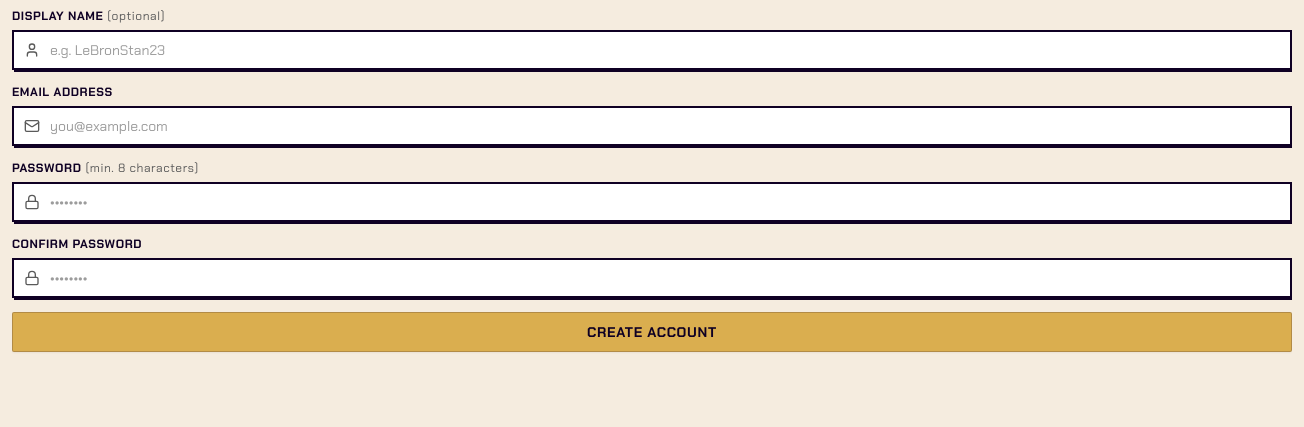
Test: Auth Components › RegisterForm › validates password minimum length (8 chars)
The image size is (1304, 427).
In the field with placeholder "you@example.com": (652, 126) [12,106,1292,146], type "user@example.com"
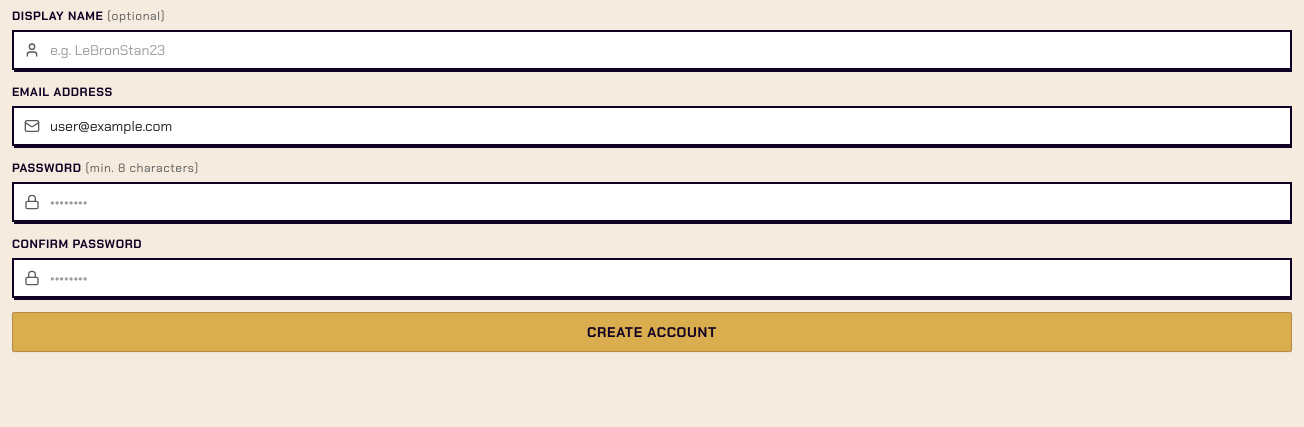
In the password field with placeholder "••••••••" below "(min. 8 characters)": (652, 202) [12,182,1292,222], type "short"
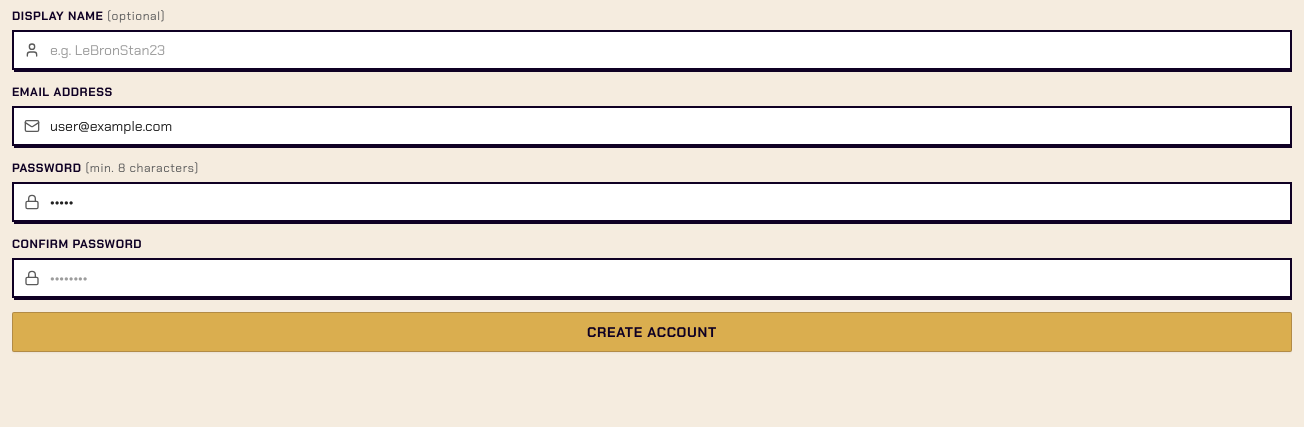
In the password field with placeholder "••••••••": (652, 278) [12,258,1292,298], type "short"
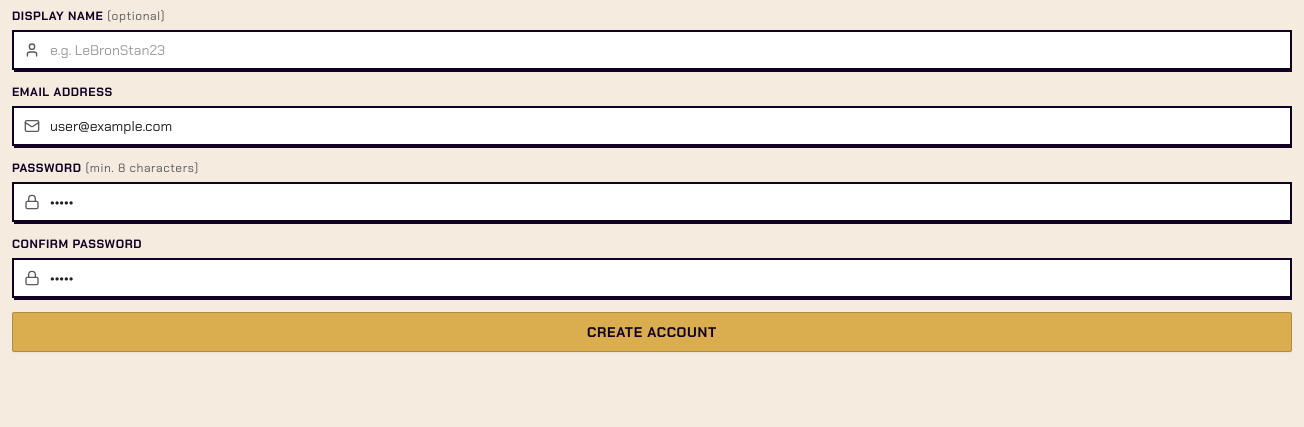
Click the button "Create Account": (652, 332) [12,312,1292,352]
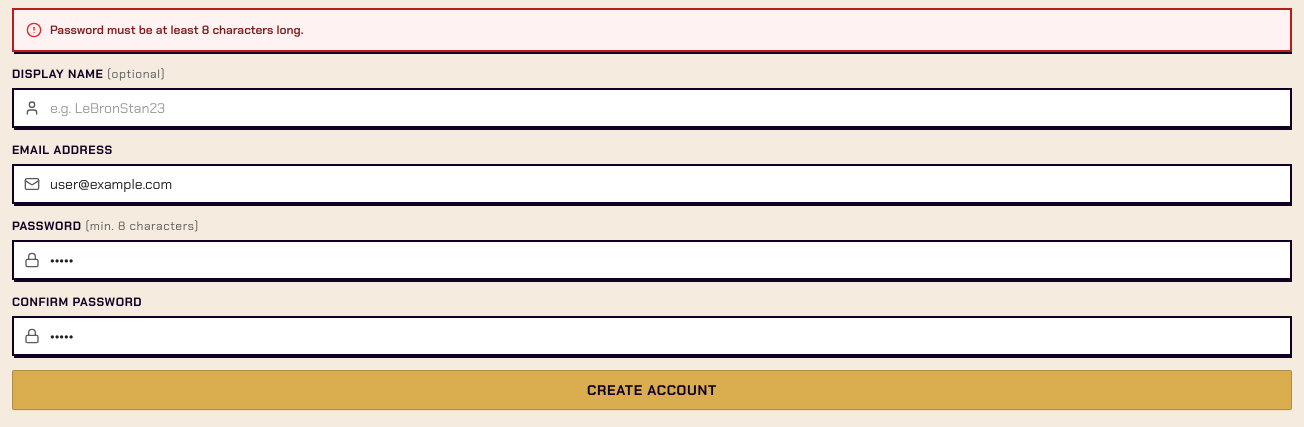
Result: the text "Password must be at least 8 characters long." is shown at [50,22,303,38]
